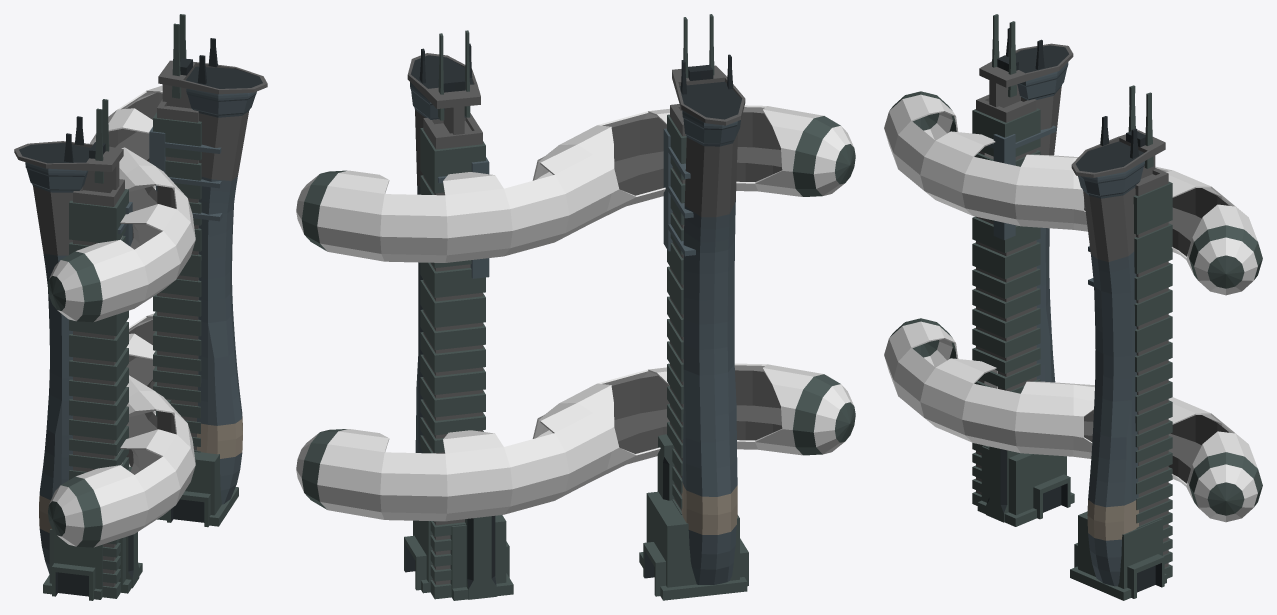
File: building_47.fbx
3 views of the same model, side by side, from view 1: azimuth 30°, elevation 25°; view 2: azimuth 150°, elevation 25°; view 3: azimuth 270°, elevation 25° (orthographic). The views are drawn at different scales.
Parts seen in each view (by area): view 1: building_47; view 2: building_47; view 3: building_47.
Part boxes in pixels (x1=…): building_47: x1=14, y1=14, x2=267, y2=600; building_47: x1=296, y1=14, x2=855, y2=600; building_47: x1=884, y1=14, x2=1262, y2=600.
Size of the model in its own units: 3009 by 4245 by 3000.
